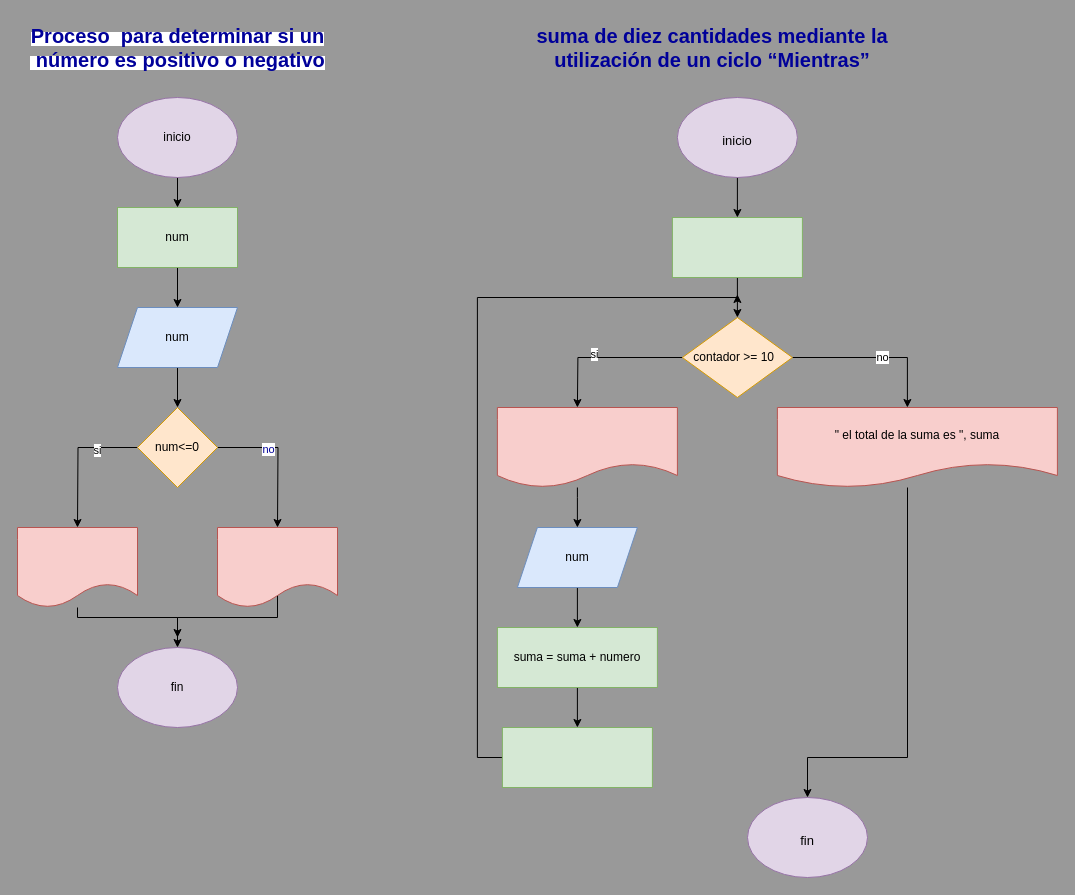
Some shapes in this 1075 by 895 pixel diagram are drawn without their labels. The centre of each missing label's shape, as x and y in pixels:
"ingresa un numero a sumar ": the point at 586,447
contador = contador + 1: the point at 576,757
num = negativo: the point at 277,567
num = positivo: the point at 77,567
num, suma, contador: the point at 736,247
